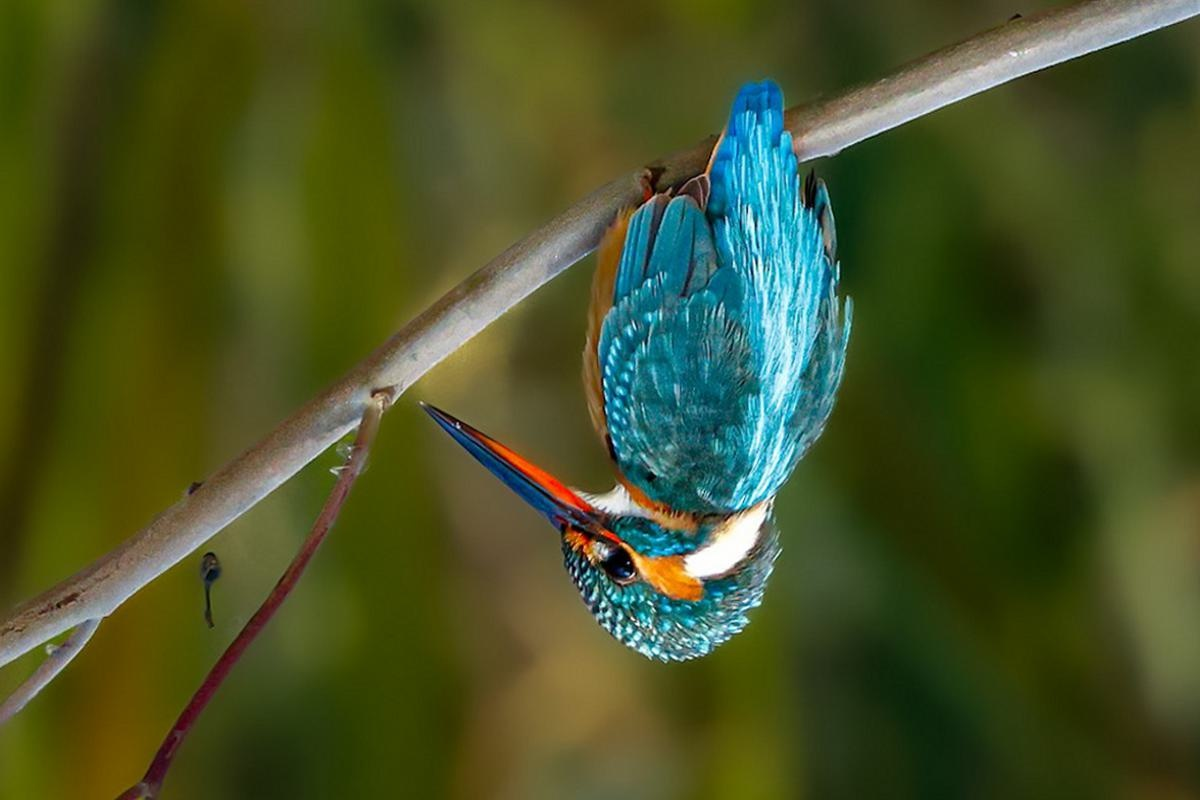kingfisher: (432, 72, 870, 672)
